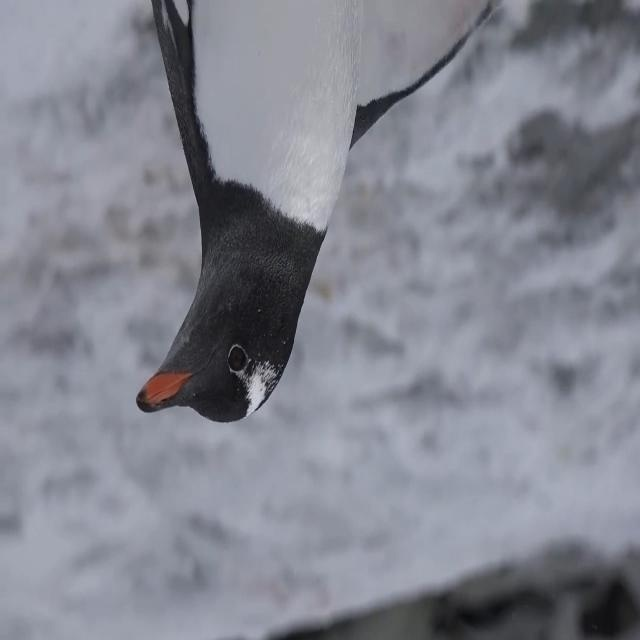penguin: (141, 1, 509, 424)
